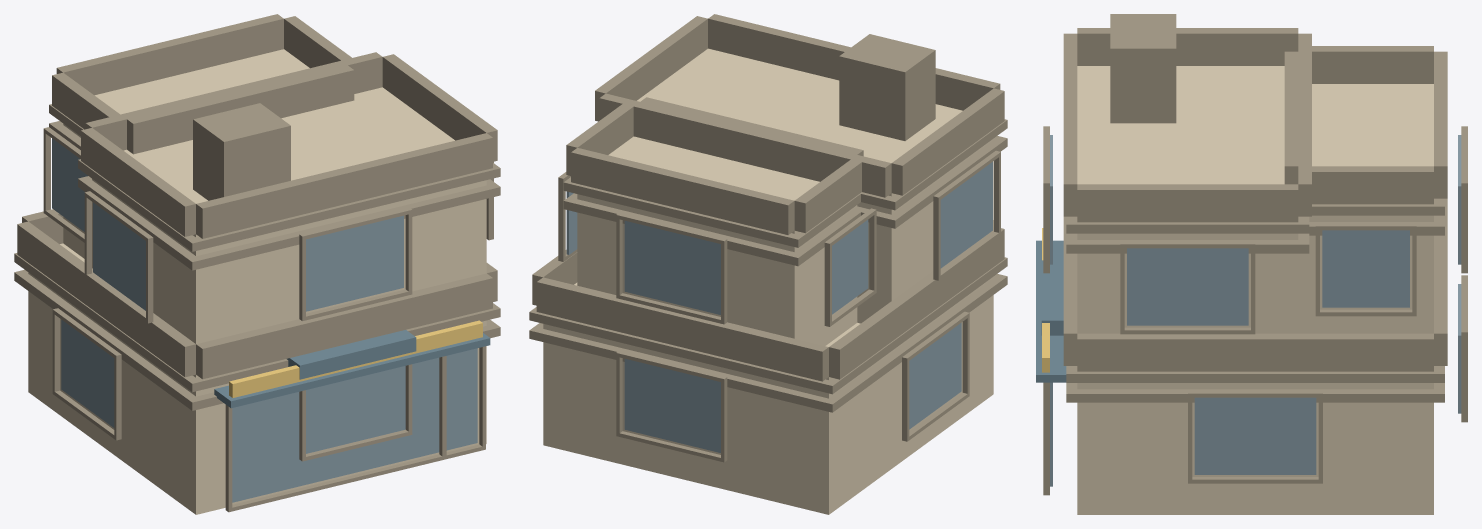
File: commercial_1x1_court.glb
The picture shows the model from 3 angles, left to right: view 1: azimuth 30°, elevation 25°; view 2: azimuth 150°, elevation 25°; view 3: azimuth 270°, elevation 25°; orthographic projection. The views are drawn at different scales.
Visible parts, largest first — view 1: commercial_1x1_court_0; view 2: commercial_1x1_court_0; view 3: commercial_1x1_court_0.
Part boxes in pixels (<box>): commercial_1x1_court_0: <box>14,14,500,514</box>; commercial_1x1_court_0: <box>529,14,1007,514</box>; commercial_1x1_court_0: <box>1036,14,1467,514</box>.
Size of the model in its own units: 7.74 by 7.5 by 7.87.
